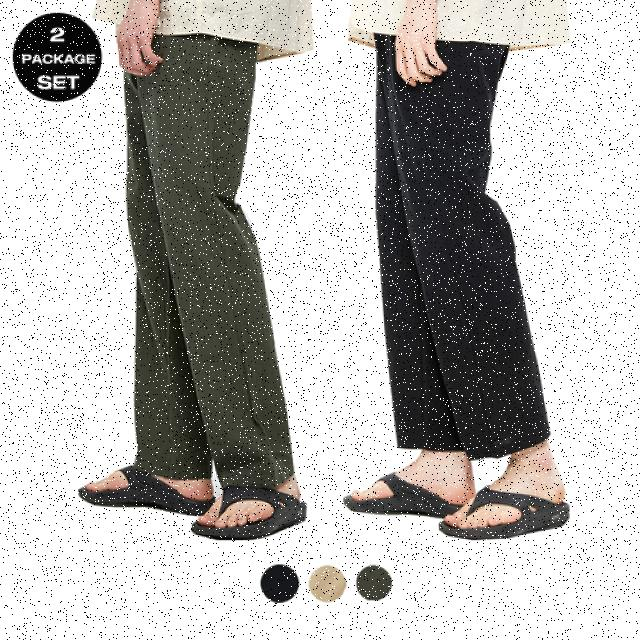dress: (128, 38, 301, 490), (374, 30, 549, 449)
